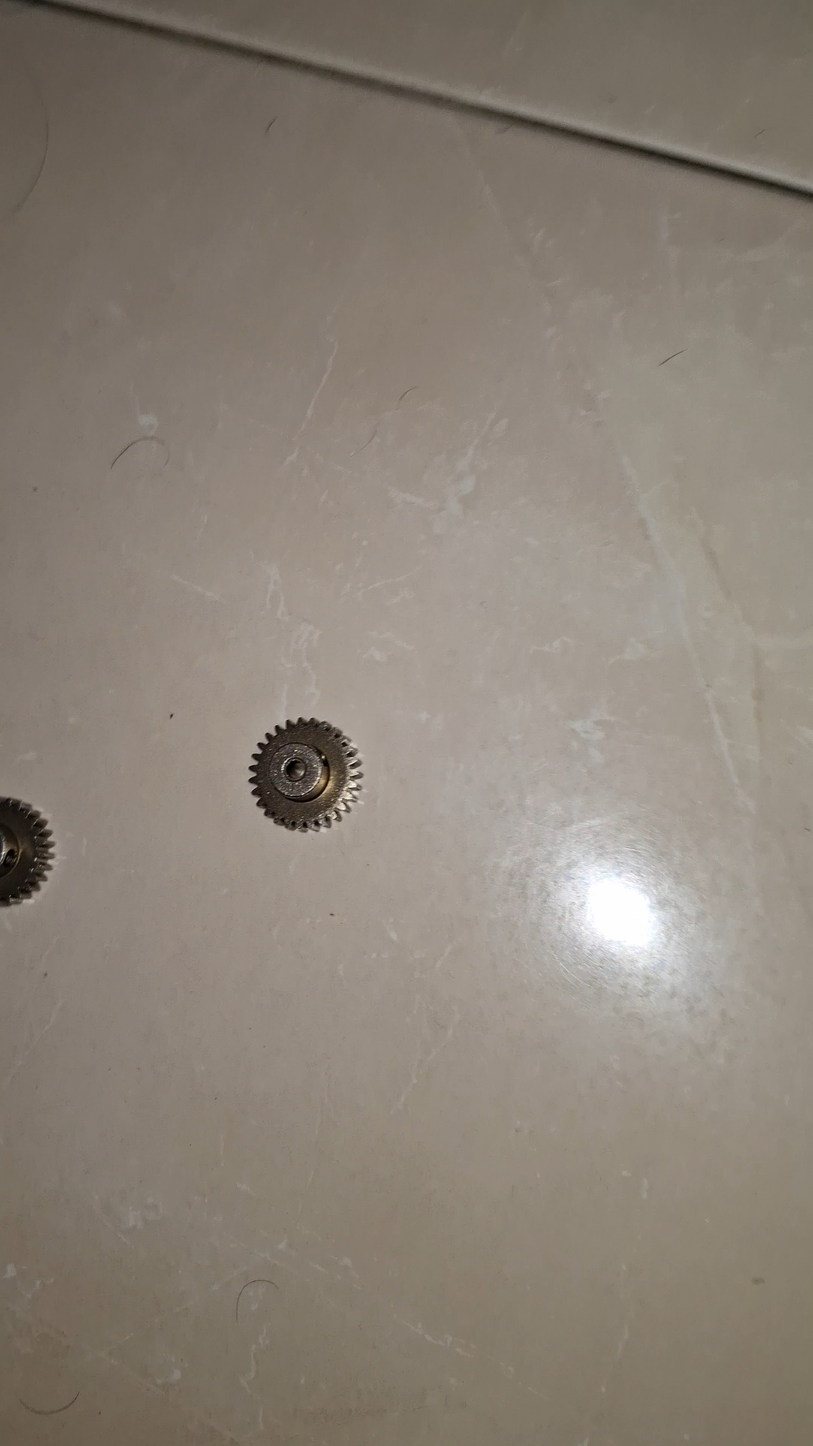spur gear: (260, 734, 380, 851), (0, 810, 57, 923)
